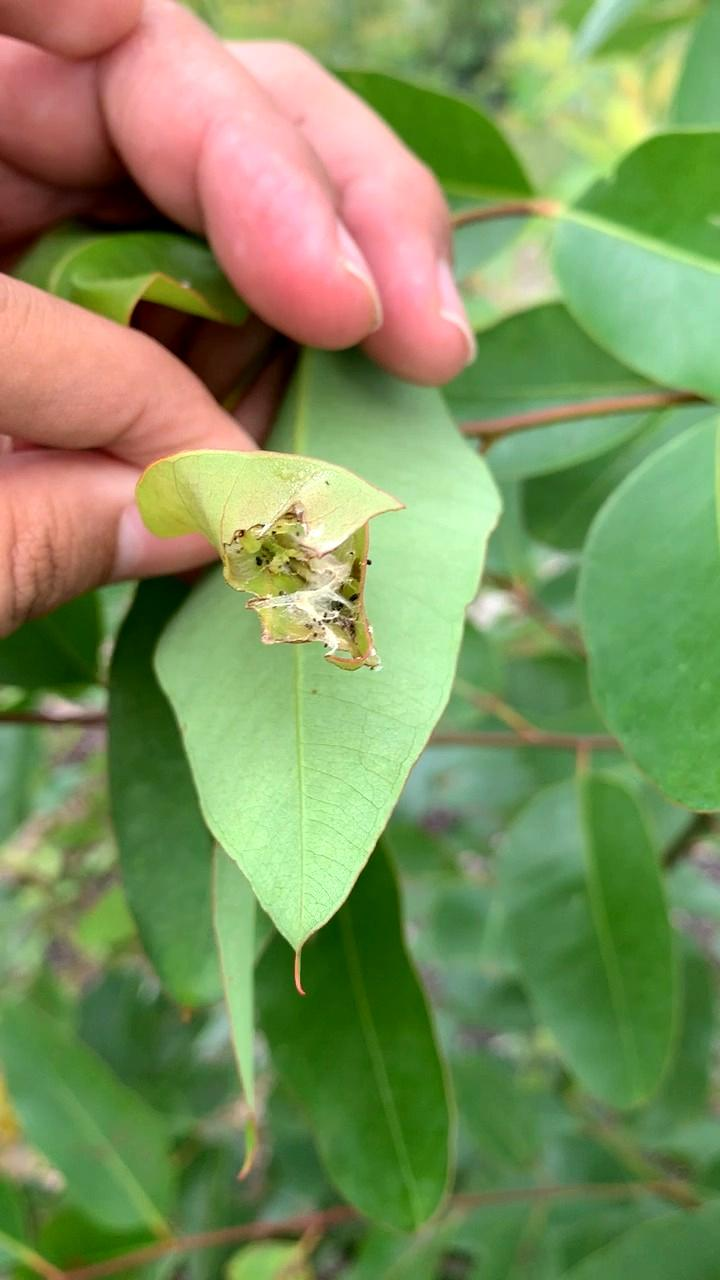Leaf Roller - Leaf: (133, 441, 405, 681)
